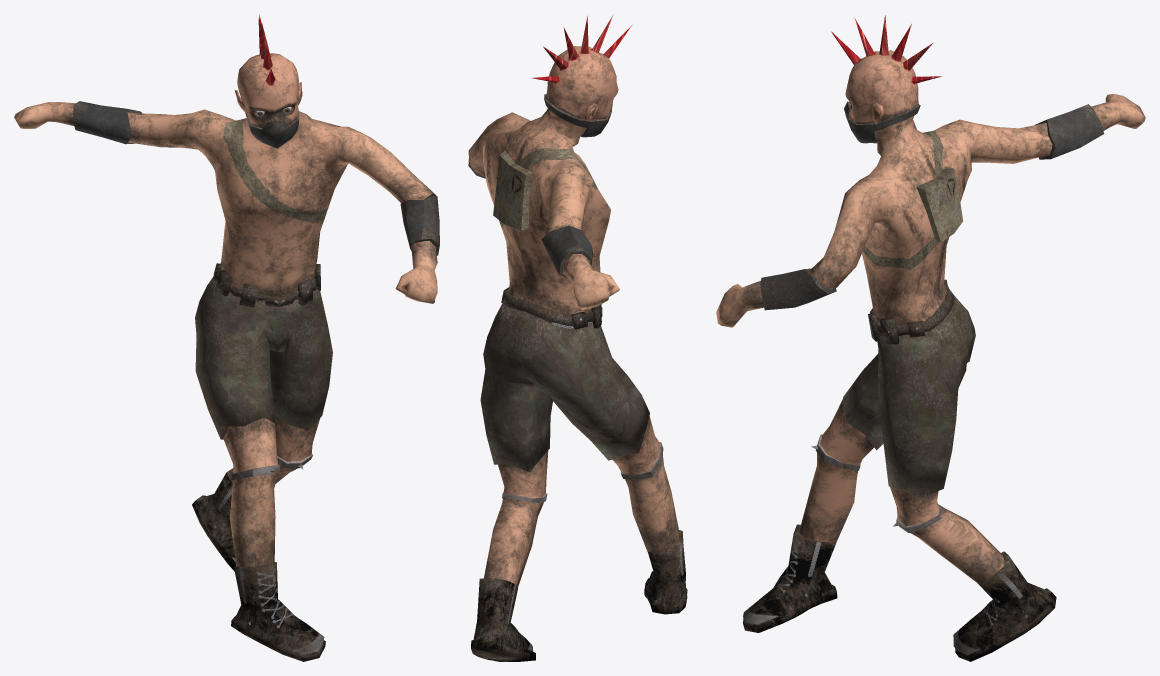
The model's file is Anim_arma_cc_npc2.0017.obj.
3 renders of one model, left to right at view 1: azimuth 30°, elevation 25°; view 2: azimuth 150°, elevation 25°; view 3: azimuth 270°, elevation 25°, orthographic. The views are drawn at different scales.
Visible parts, largest first — view 1: polySurface1; view 2: polySurface1; view 3: polySurface1.
Boxes of the visible parts, left/top/right/bottom form: polySurface1: left=14, top=14, right=439, bottom=661; polySurface1: left=468, top=15, right=687, bottom=661; polySurface1: left=716, top=15, right=1145, bottom=661.
Bounding box in the file's own units: 4.91 × 9.9 × 6.14.
